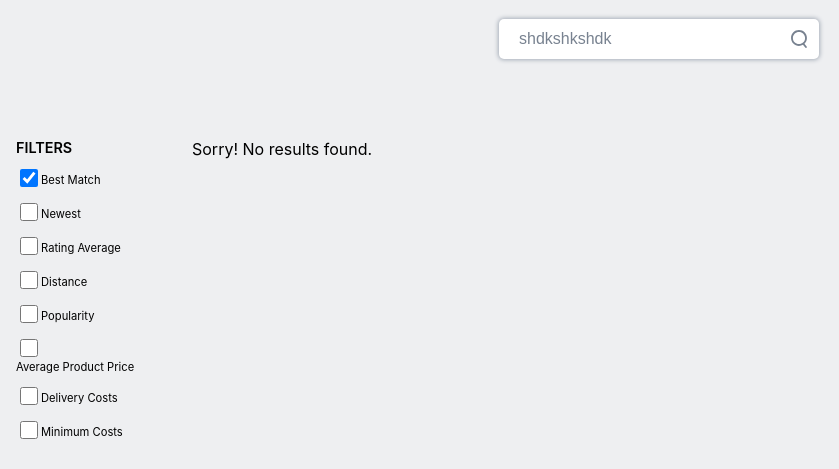
Test case: Restaurants displayed on dashboard based on search › shows filtered results and does not show No Result String
Replace the text in the field with "indian" at coordinates (659, 39), box x1=499 y1=19 x2=819 y2=59
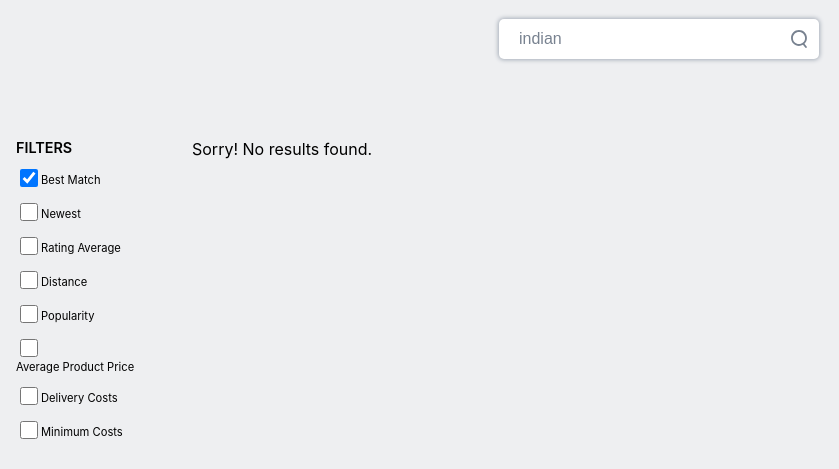
Click the button with class "icon--search" at coordinates (799, 39), box x1=779 y1=19 x2=819 y2=59
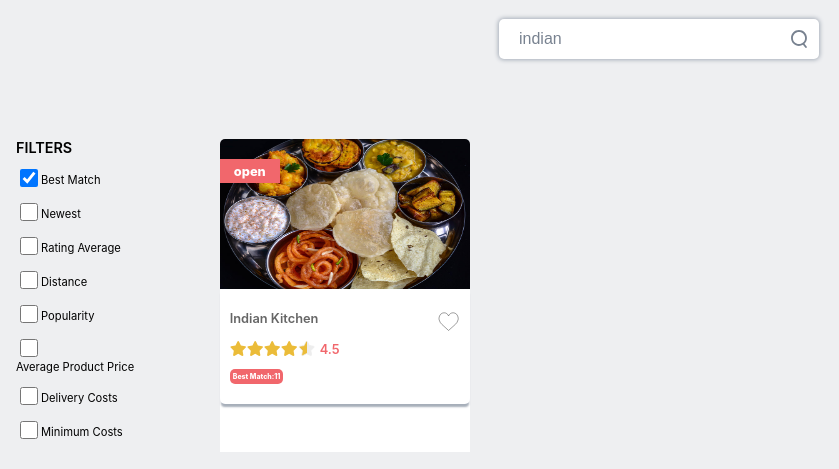
Check: the number of list items with class "tile" is 1, box x1=220 y1=139 x2=470 y2=452
